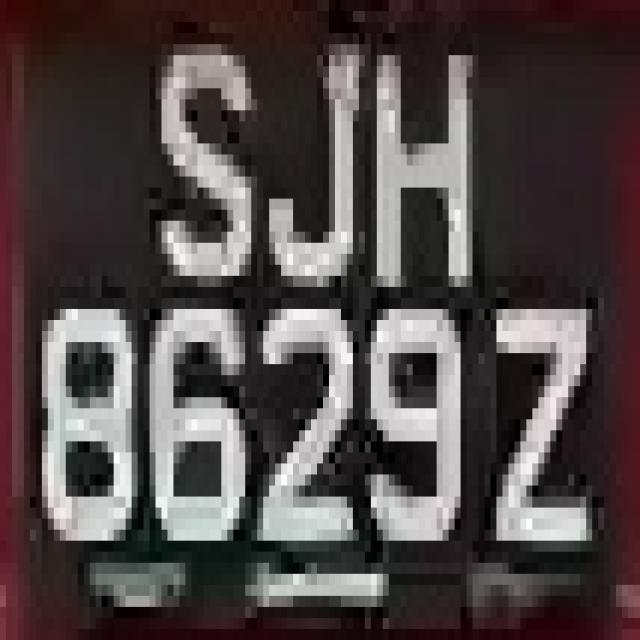2: (233, 287, 377, 596)
6: (144, 265, 251, 607)
8: (48, 265, 149, 563)
9: (359, 309, 466, 585)
H: (353, 33, 496, 298)
J: (257, 33, 365, 276)
S: (156, 44, 257, 353)
Z: (485, 243, 598, 563)
